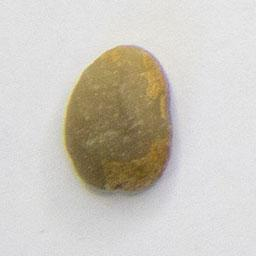longberry: (61, 40, 177, 199)
